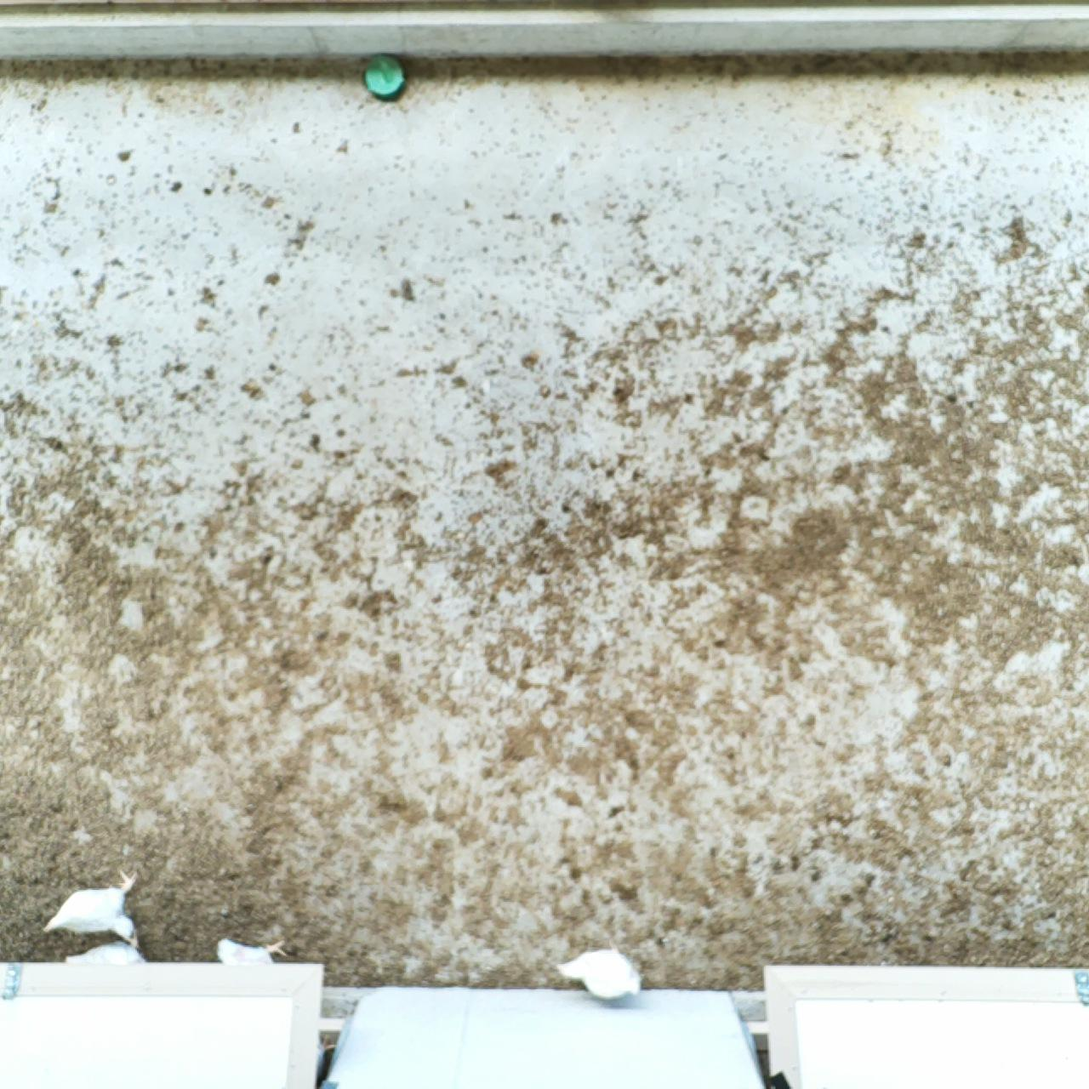chicken: (35, 865, 153, 954), (551, 932, 646, 1004), (64, 936, 148, 973), (210, 929, 290, 967)
